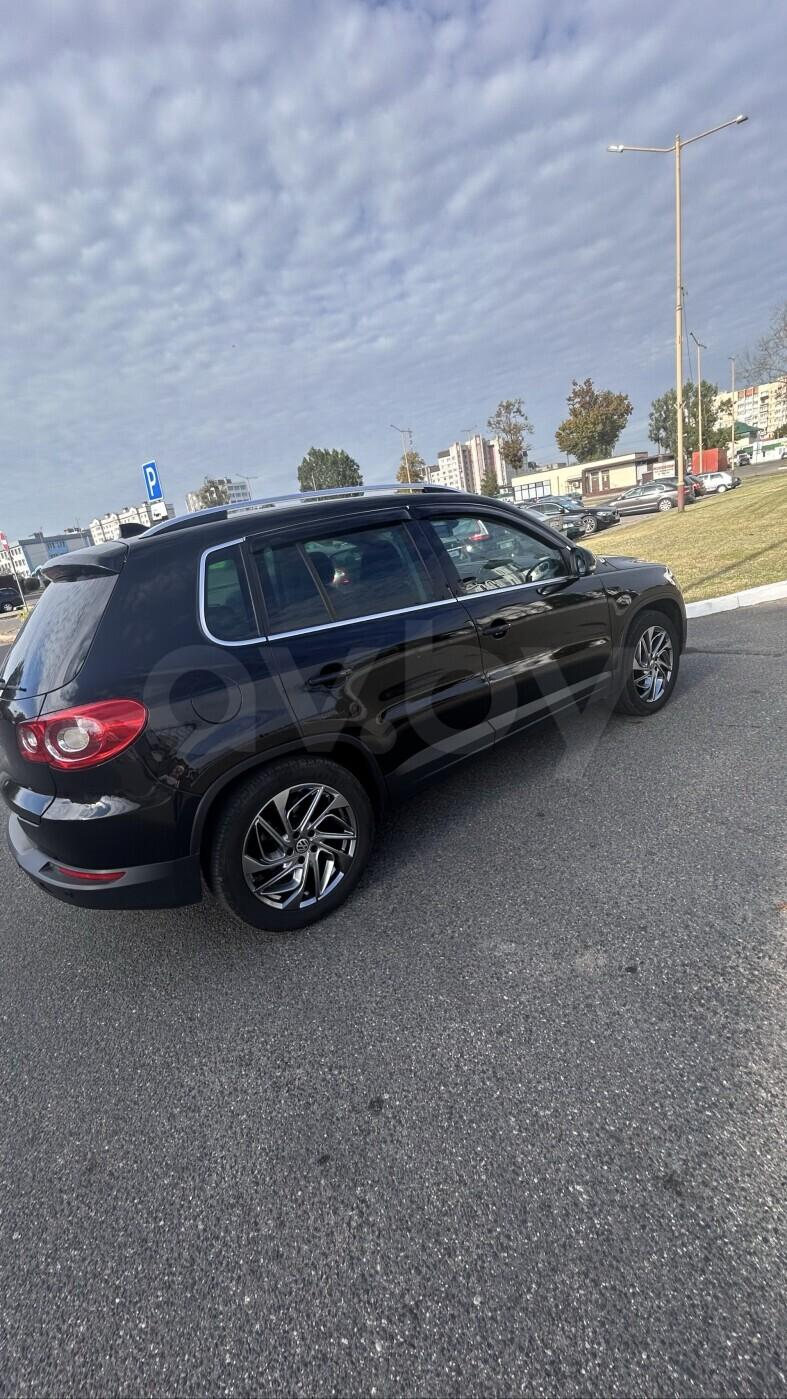Tiguan_2007-2011: (0, 484, 690, 938)
